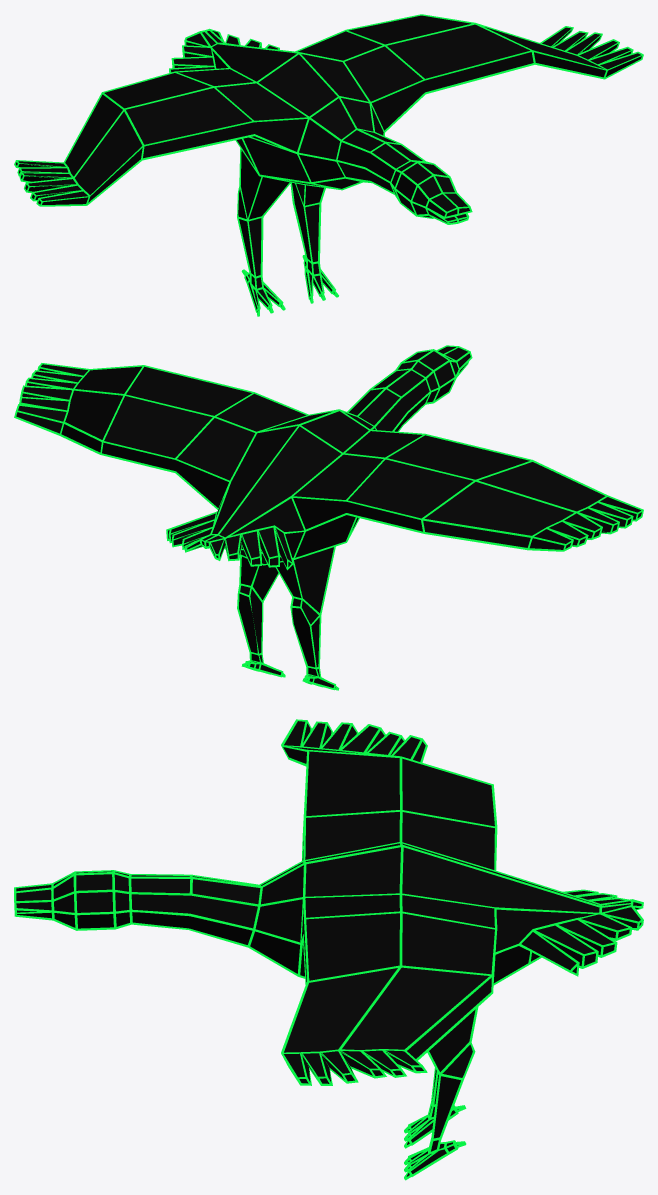
The picture shows the model from 3 angles, top to bottom: view 1: azimuth 30°, elevation 25°; view 2: azimuth 150°, elevation 25°; view 3: azimuth 270°, elevation 25°; orthographic projection. The views are drawn at different scales.
Visible parts, largest first — view 1: Sphere.001; view 2: Sphere.001; view 3: Sphere.001.
Part boxes in pixels (<box>): Sphere.001: <box>14,14,643,316</box>; Sphere.001: <box>14,345,643,690</box>; Sphere.001: <box>14,719,643,1180</box>.
Bounding box in the file's own units: 4.33 × 1.76 × 3.22.
